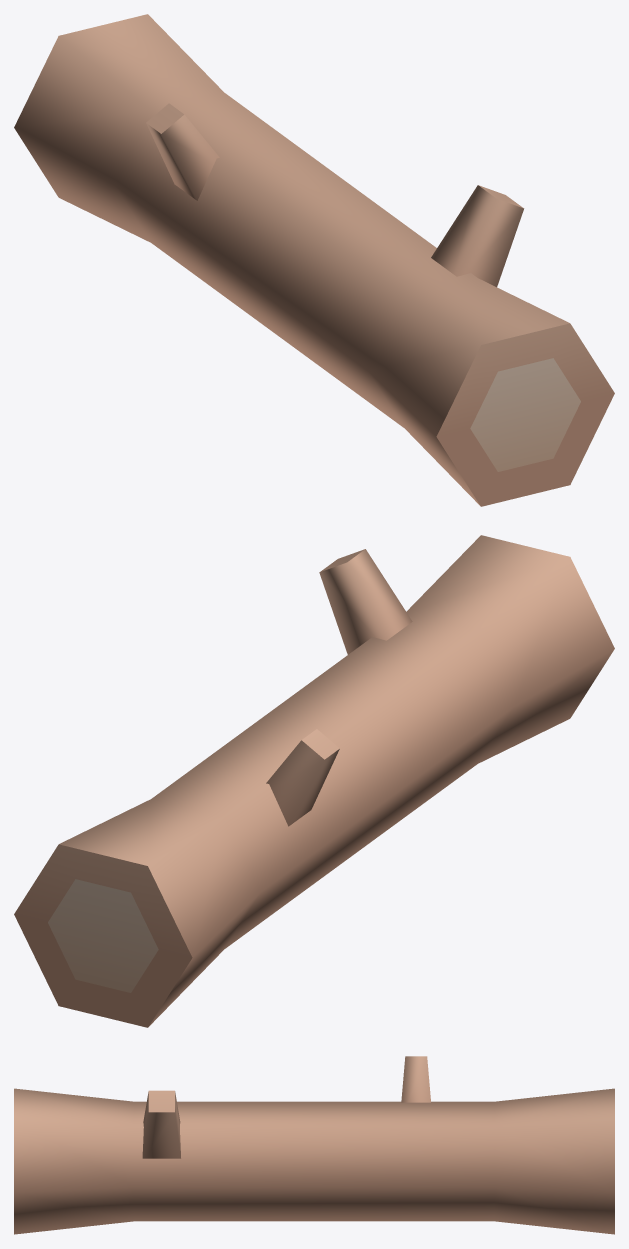
File: tree-log.glb
The picture shows the model from 3 angles, top to bottom: view 1: azimuth 30°, elevation 25°; view 2: azimuth 150°, elevation 25°; view 3: azimuth 270°, elevation 25°; orthographic projection. The views are drawn at different scales.
Parts seen in each view (by area): view 1: tree-log; view 2: tree-log; view 3: tree-log.
Boxes of the visible parts, x1=… form: tree-log: x1=14, y1=14, x2=614, y2=506; tree-log: x1=14, y1=535, x2=614, y2=1027; tree-log: x1=14, y1=1056, x2=614, y2=1234.
Size of the model in its own units: 0.2495 by 0.2771 by 1.
